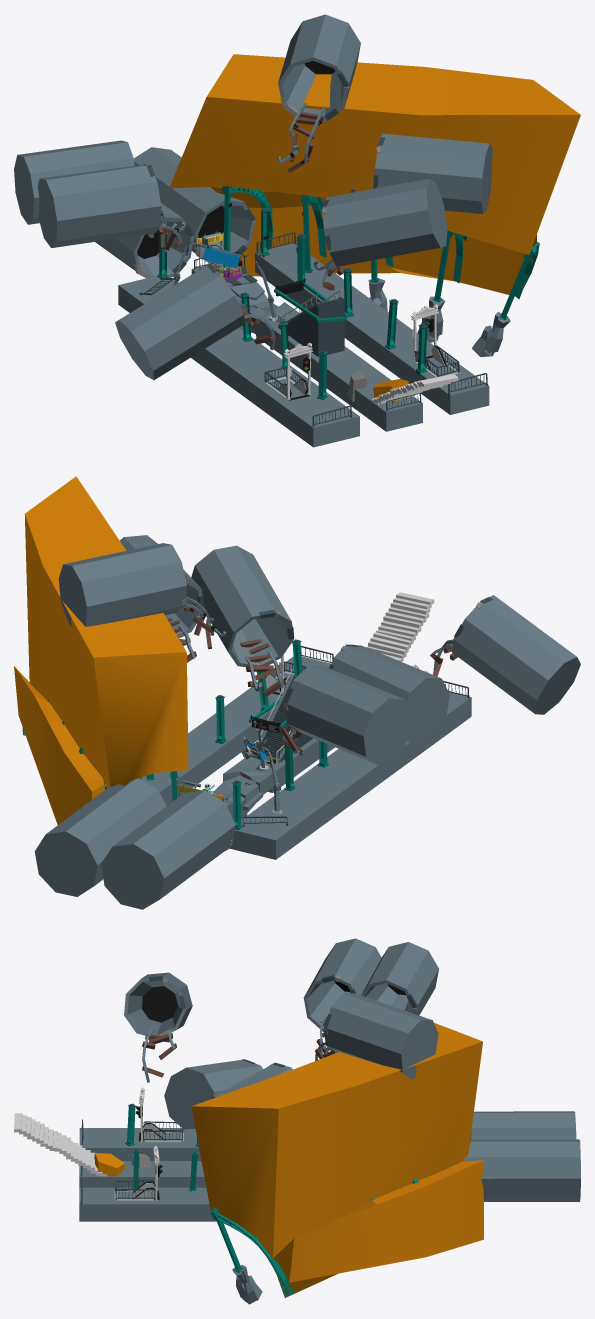
File: NY_lowerElms01.fbx
3 views of the same model, one above another, from view 1: azimuth 30°, elevation 25°; view 2: azimuth 150°, elevation 25°; view 3: azimuth 270°, elevation 25° (orthographic). The views are drawn at different scales.
Visible parts, largest first — view 1: bendyGallery, tunnels, REF, entryTunnels, greenPillars, exitStairs; view 2: tunnels, bendyGallery, REF, entryTunnels, greenPillars, exitStairs; view 3: bendyGallery, tunnels, REF, entryTunnels, greenPillars.
Part boxes in pixels (bbox=[...]): bendyGallery: bbox=[169, 54, 580, 356]; tunnels: bbox=[14, 14, 492, 380]; REF: bbox=[118, 231, 489, 447]; entryTunnels: bbox=[95, 147, 255, 278]; greenPillars: bbox=[157, 207, 428, 399]; exitStairs: bbox=[274, 279, 347, 356]; tunnels: bbox=[58, 535, 580, 765]; bendyGallery: bbox=[14, 476, 188, 824]; REF: bbox=[141, 592, 471, 859]; entryTunnels: bbox=[34, 778, 235, 909]; greenPillars: bbox=[139, 639, 328, 830]; exitStairs: bbox=[249, 669, 312, 765]; bendyGallery: bbox=[191, 1023, 483, 1304]; tunnels: bbox=[124, 938, 438, 1129]; REF: bbox=[14, 1087, 216, 1221]; entryTunnels: bbox=[463, 1111, 580, 1201]; greenPillars: bbox=[125, 1103, 198, 1191].
Size of the model in its own units: 3460 by 2006 by 4018.
